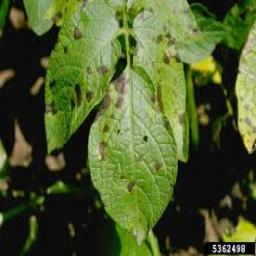Early_blight: (76, 84, 83, 107), (45, 102, 56, 113), (98, 66, 108, 73), (163, 52, 168, 65), (100, 143, 104, 159), (115, 98, 122, 107), (127, 183, 133, 192), (87, 93, 94, 100), (76, 27, 80, 38)
Leaf: (88, 65, 178, 249), (45, 3, 121, 155), (132, 12, 188, 163)
